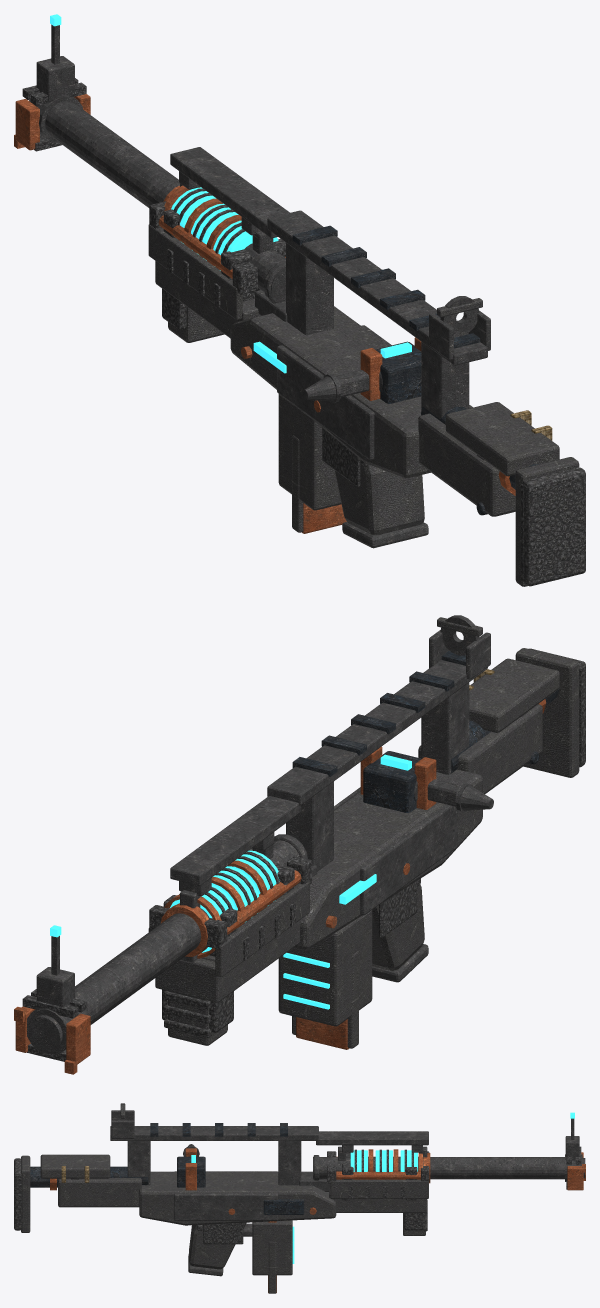
The model's file is halo.glb.
The picture shows the model from 3 angles, top to bottom: view 1: azimuth 30°, elevation 25°; view 2: azimuth 150°, elevation 25°; view 3: azimuth 270°, elevation 25°; orthographic projection. The views are drawn at different scales.
Visible parts, largest first — view 1: body | dark polymer, body | gunmetal, body | rubber, mag | dark polymer, factory-optic | gunmetal, body | copper rail, body | blued steel, body | coil glow, bolt | blued steel, bolt | gunmetal, bolt | copper rail, mag | copper rail; view 2: body | dark polymer, body | gunmetal, body | rubber, mag | dark polymer, body | copper rail, factory-optic | gunmetal, body | blued steel, bolt | blued steel, body | coil glow, bolt | gunmetal, bolt | copper rail, mag | copper rail (+1 smaller); view 3: body | dark polymer, body | gunmetal, body | rubber, mag | dark polymer, body | blued steel, body | copper rail, factory-optic | gunmetal, body | coil glow, bolt | blued steel, bolt | copper rail.
Boxes of the visible parts, x1,y1,x2,y2 form: body | dark polymer: (148,224,579,586); body | gunmetal: (29,96,487,548); body | rubber: (22,78,585,586); mag | dark polymer: (278,394,341,532); factory-optic | gunmetal: (36,24,490,360); body | copper rail: (14,94,515,495); body | blued steel: (292,225,539,515); body | coil glow: (171,187,286,373); bolt | blued steel: (375,341,421,403); bolt | gunmetal: (303,370,382,403); bolt | copper rail: (360,337,421,400); mag | copper rail: (302,503,346,533); body | dark polymer: (148,648,579,1045); body | gunmetal: (27,660,528,1054); body | rubber: (22,648,585,1061); mag | dark polymer: (278,910,372,1048); body | copper rail: (14,699,546,1074); factory-optic | gunmetal: (36,615,490,1006); body | blued steel: (292,651,559,776); bolt | blued steel: (363,751,421,812); body | coil glow: (170,850,376,952); bolt | gunmetal: (414,779,493,812); bolt | copper rail: (360,746,436,809); mag | copper rail: (296,1017,349,1049); body | dark polymer: (21,1154,428,1269); body | gunmetal: (71,1126,585,1276); body | rubber: (14,1146,581,1244); mag | dark polymer: (252,1220,292,1293); body | blued steel: (30,1123,304,1214); body | copper rail: (50,1149,585,1214); factory-optic | gunmetal: (111,1104,579,1160); body | coil glow: (350,1150,417,1171); bolt | blued steel: (177,1156,205,1187); bolt | copper rail: (185,1148,196,1190).
Size of the model in its own units: 0.154 by 0.346 by 0.987.
Materials: 8 (7 with a texture image).
